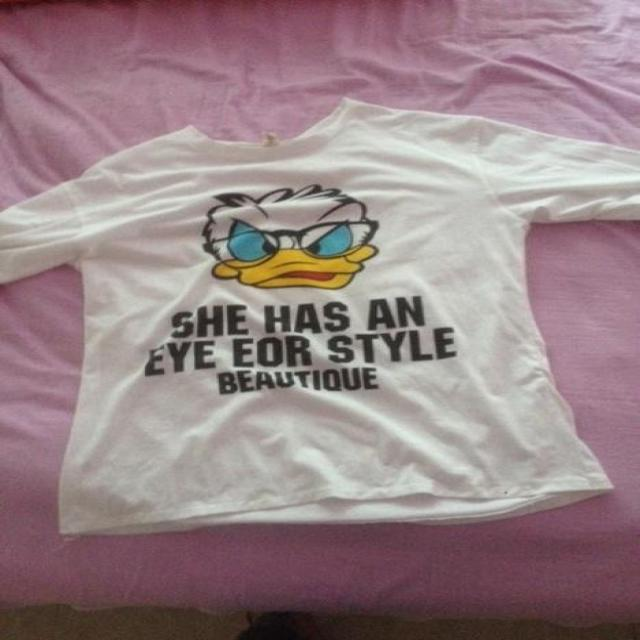long sleeve top: (1, 96, 637, 535)
